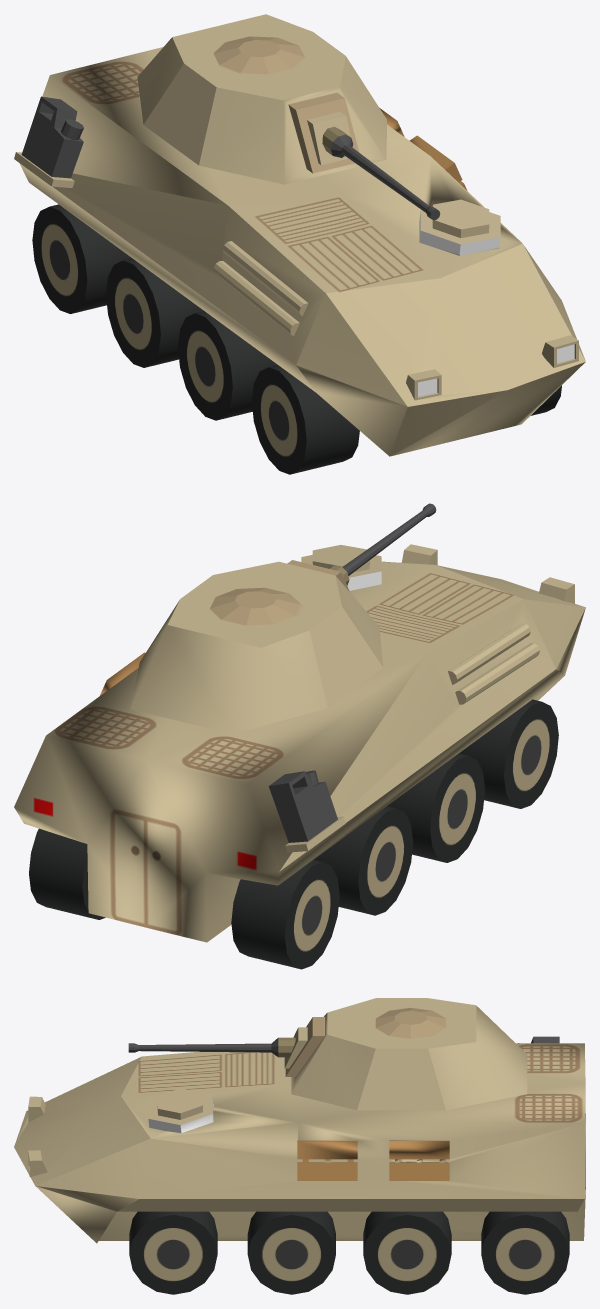
Rendered from APC_02.fbx.
The picture shows the model from 3 angles, top to bottom: view 1: azimuth 30°, elevation 25°; view 2: azimuth 150°, elevation 25°; view 3: azimuth 270°, elevation 25°; orthographic projection. The views are drawn at different scales.
Parts seen in each view (by area): view 1: APC_02_Body.001, APC_02_UpperBody2, APC_02_Wheel01, APC_02_Wheel03, APC_02_Wheel07, APC_02_Wheel05, APC_02_Oil, APC_02_MainGun1, APC_02pBarrelBody, APC_02_Oil_prop; view 2: APC_02_Body.001, APC_02_UpperBody2, APC_02_Wheel07, APC_02_Wheel01, APC_02_Wheel05, APC_02_Wheel03, APC_02_Wheel08, APC_02_Oil, APC_02_MainGun1, APC_02_Oil_prop; view 3: APC_02_Body.001, APC_02_UpperBody2, APC_02_Wheel06, APC_02_Wheel08, APC_02_Wheel04, APC_02_Wheel02, APC_02_MainGun1, APC_02pBarrelBody.
Boxes of the visible parts, x1,y1,x2,y2 form: APC_02_Body.001: (19, 47, 585, 456); APC_02_UpperBody2: (137, 14, 386, 184); APC_02_Wheel01: (251, 365, 359, 474); APC_02_Wheel03: (178, 311, 277, 420); APC_02_Wheel07: (32, 204, 131, 313); APC_02_Wheel05: (106, 258, 203, 367); APC_02_Oil: (21, 96, 83, 178); APC_02_MainGun1: (322, 126, 440, 220); APC_02pBarrelBody: (307, 112, 352, 165); APC_02_Oil_prop: (14, 152, 74, 187); APC_02_Body.001: (14, 544, 585, 942); APC_02_UpperBody2: (130, 560, 382, 734); APC_02_Wheel07: (231, 860, 339, 969); APC_02_Wheel01: (459, 699, 558, 808); APC_02_Wheel05: (314, 806, 413, 915); APC_02_Wheel03: (387, 753, 484, 862); APC_02_Wheel08: (29, 828, 105, 919); APC_02_Oil: (268, 770, 337, 842); APC_02_MainGun1: (328, 503, 436, 585); APC_02_Oil_prop: (285, 816, 345, 852); APC_02_Body.001: (14, 1043, 585, 1243); APC_02_UpperBody2: (285, 998, 527, 1110); APC_02_Wheel06: (363, 1211, 451, 1294); APC_02_Wheel08: (481, 1211, 569, 1294); APC_02_Wheel04: (247, 1211, 335, 1294); APC_02_Wheel02: (129, 1211, 217, 1294); APC_02_MainGun1: (128, 1037, 295, 1057); APC_02pBarrelBody: (284, 1027, 307, 1068).
Size of the model in its own units: 26.73 by 24.86 by 56.81.
